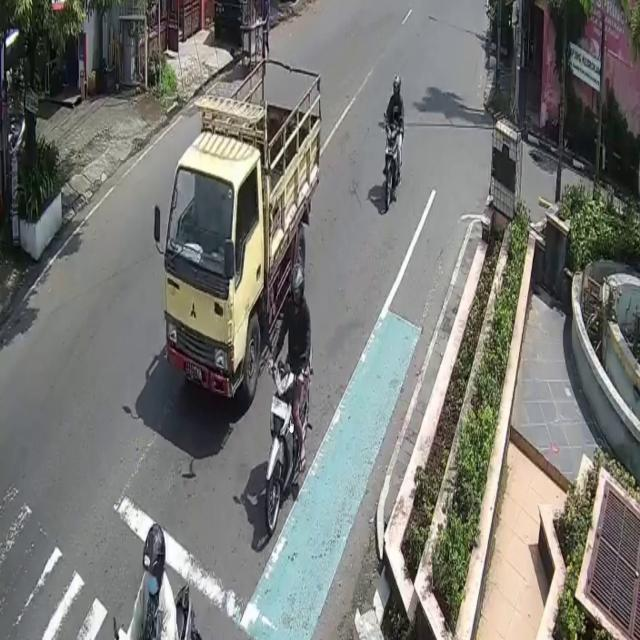motorbike: (266, 361, 310, 534), (384, 120, 401, 213)
truck: (165, 103, 320, 407)
